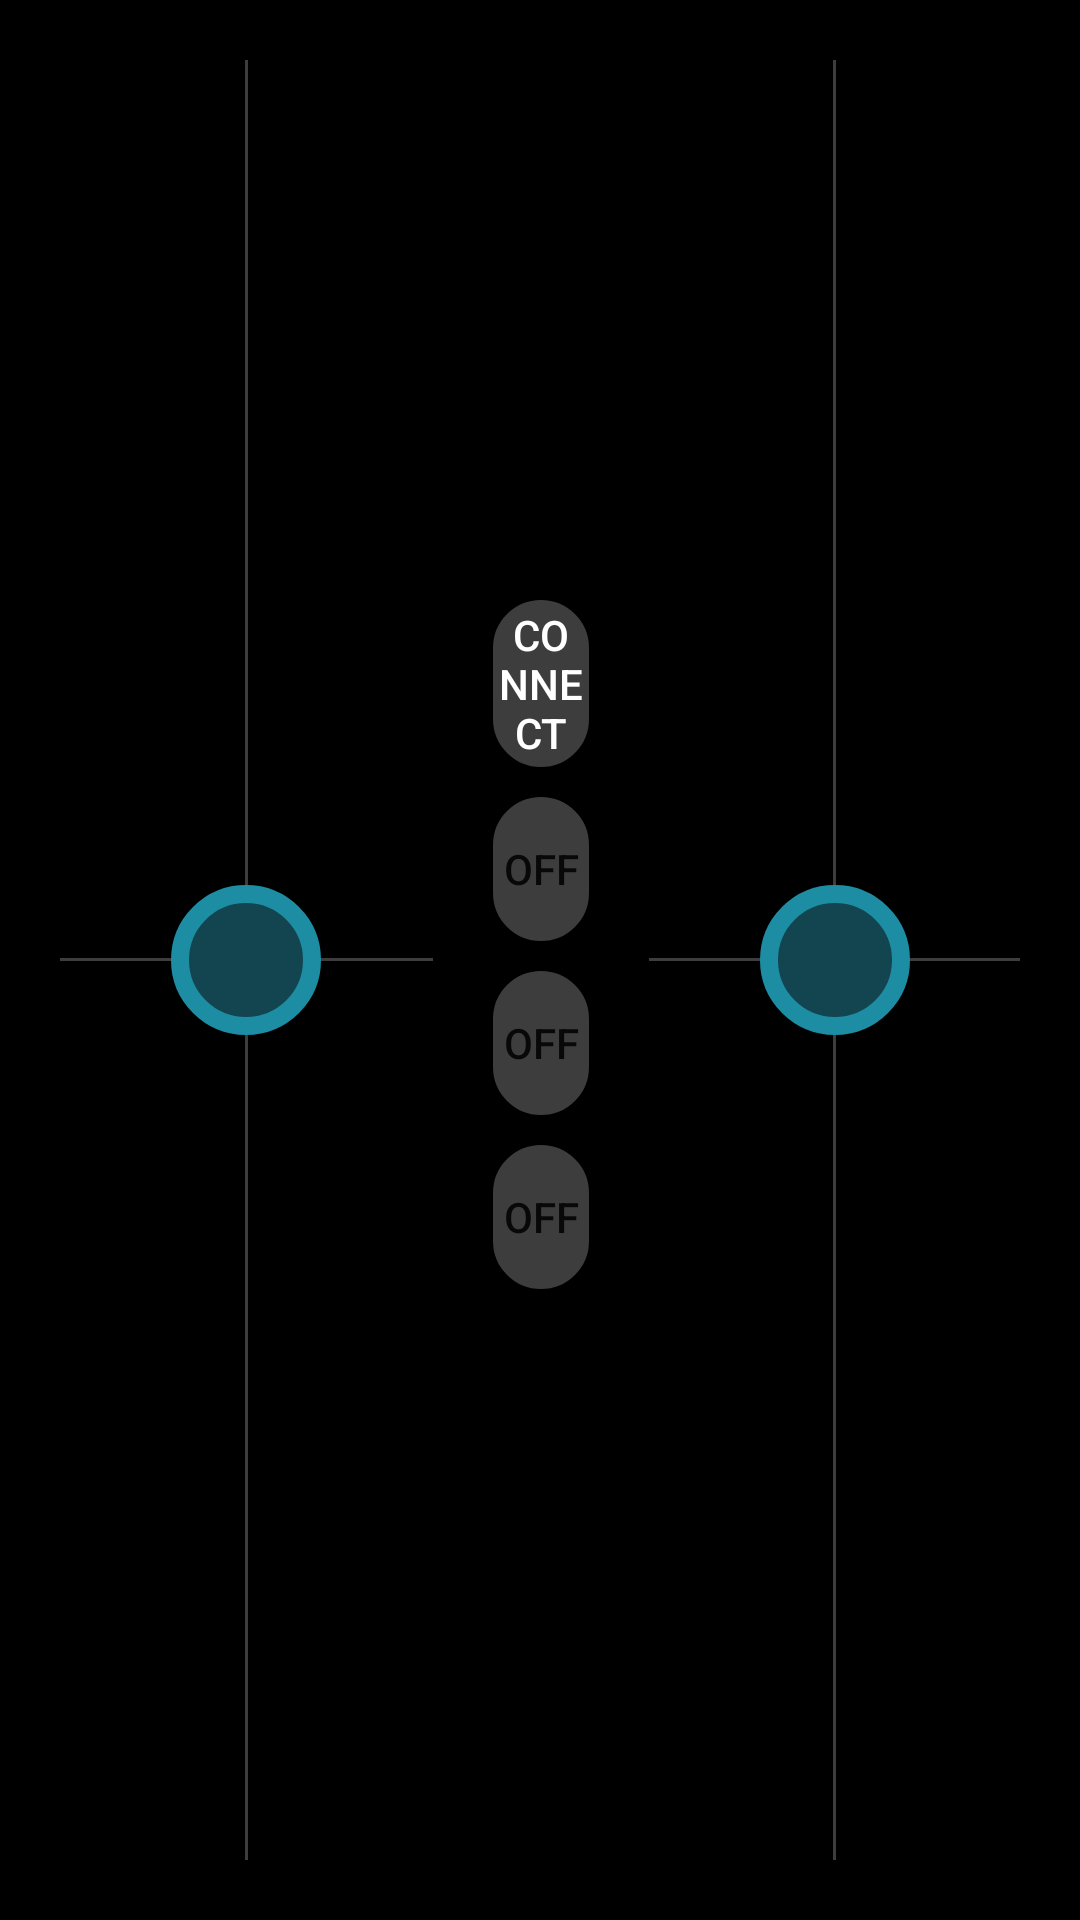

Where to tap for icons on this 1080 × 1920 app screen, as point (x, y):
joystick: point (246, 960), point (835, 960)
